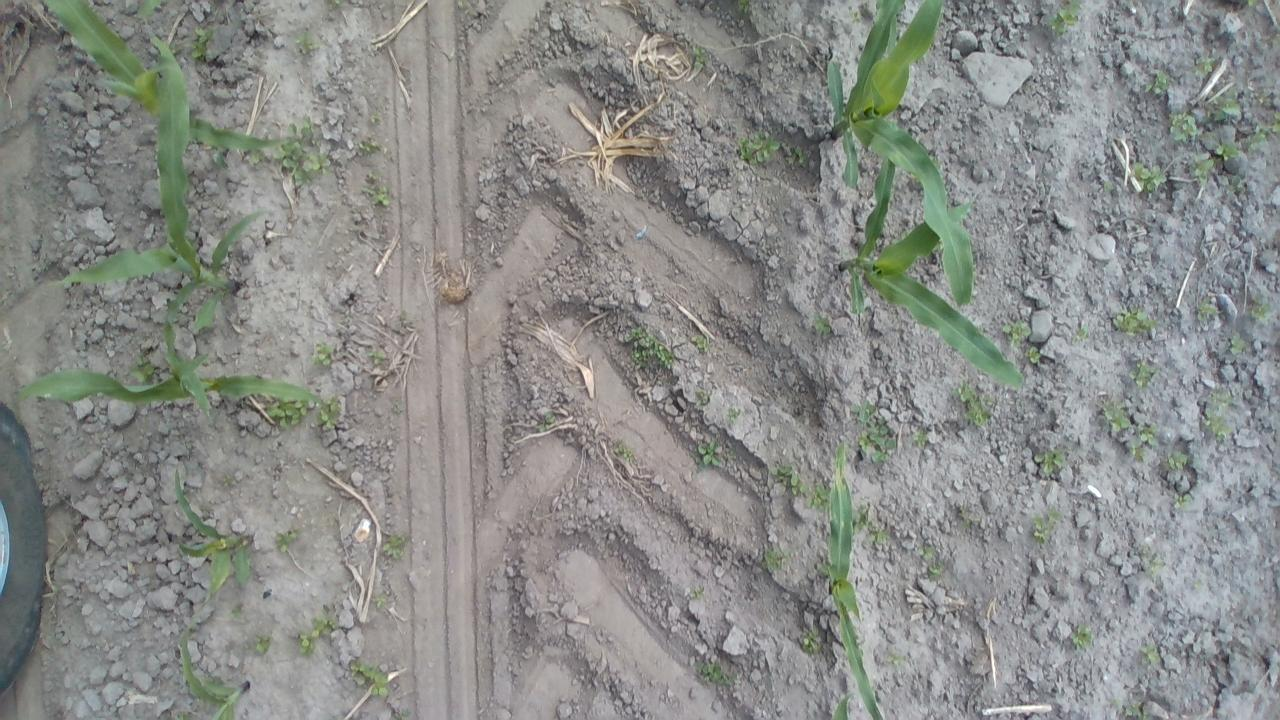Maize: (50, 25, 263, 410), (828, 0, 978, 306), (838, 154, 1028, 393), (44, 0, 300, 153), (15, 362, 337, 428), (815, 441, 888, 720), (173, 463, 254, 595), (178, 615, 250, 720), (831, 690, 860, 720)
Weeds: (274, 118, 332, 186), (768, 461, 831, 512), (850, 400, 898, 464), (625, 326, 672, 370), (849, 498, 891, 545), (954, 379, 992, 427), (738, 128, 781, 168), (346, 656, 388, 696), (296, 616, 336, 656), (1202, 390, 1232, 440), (1112, 304, 1159, 335), (266, 398, 308, 431), (691, 440, 737, 470), (694, 662, 738, 688), (1100, 396, 1132, 431), (1032, 507, 1062, 544), (1052, 0, 1082, 35), (129, 350, 157, 386), (1000, 318, 1032, 349), (1133, 162, 1166, 192), (1032, 446, 1066, 475), (363, 173, 390, 206), (758, 546, 792, 572), (1170, 112, 1198, 143), (1143, 68, 1172, 96), (316, 398, 342, 428), (1208, 95, 1240, 119), (1130, 359, 1159, 385), (190, 26, 210, 61), (273, 530, 302, 554), (382, 534, 408, 560), (296, 31, 320, 59), (1190, 154, 1214, 182), (310, 342, 336, 367), (1068, 624, 1094, 648), (1139, 640, 1161, 666), (691, 44, 711, 72), (1124, 700, 1152, 720), (1246, 123, 1267, 149), (800, 627, 820, 654), (1192, 55, 1216, 76), (1163, 450, 1187, 471), (812, 313, 833, 336), (1250, 296, 1270, 320), (786, 144, 807, 166), (1217, 141, 1239, 161), (1140, 424, 1158, 448), (1229, 332, 1247, 356), (912, 428, 932, 449), (537, 413, 557, 434), (246, 148, 266, 168), (357, 140, 381, 156), (254, 634, 274, 653), (691, 334, 710, 353), (1128, 442, 1146, 462), (1171, 492, 1192, 508), (1198, 302, 1216, 320), (1144, 558, 1162, 576), (616, 446, 634, 464), (1232, 174, 1248, 194), (213, 150, 228, 168), (1026, 345, 1041, 363), (696, 389, 711, 406), (1271, 110, 1280, 138), (1074, 326, 1090, 341), (726, 407, 740, 424), (368, 351, 386, 364), (919, 545, 933, 561), (894, 231, 910, 244), (930, 563, 944, 577), (931, 239, 944, 254), (690, 587, 706, 599), (887, 654, 906, 664), (228, 605, 242, 618), (222, 474, 236, 486), (737, 0, 749, 14), (1102, 180, 1114, 194), (397, 706, 412, 717), (374, 595, 385, 608), (370, 112, 383, 122), (174, 712, 190, 720), (328, 0, 344, 7), (850, 13, 860, 24), (1247, 0, 1256, 6)
